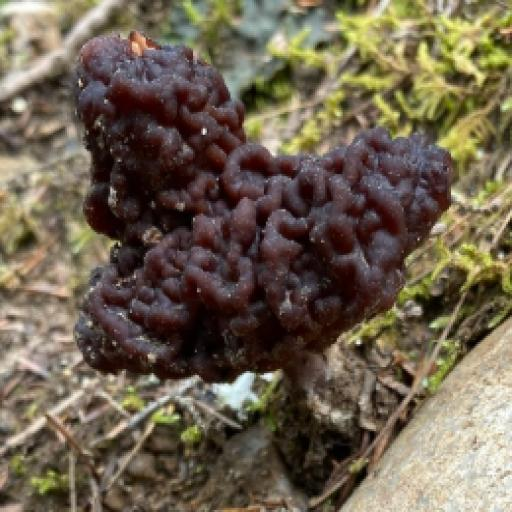False Morel: (18, 39, 478, 441)
